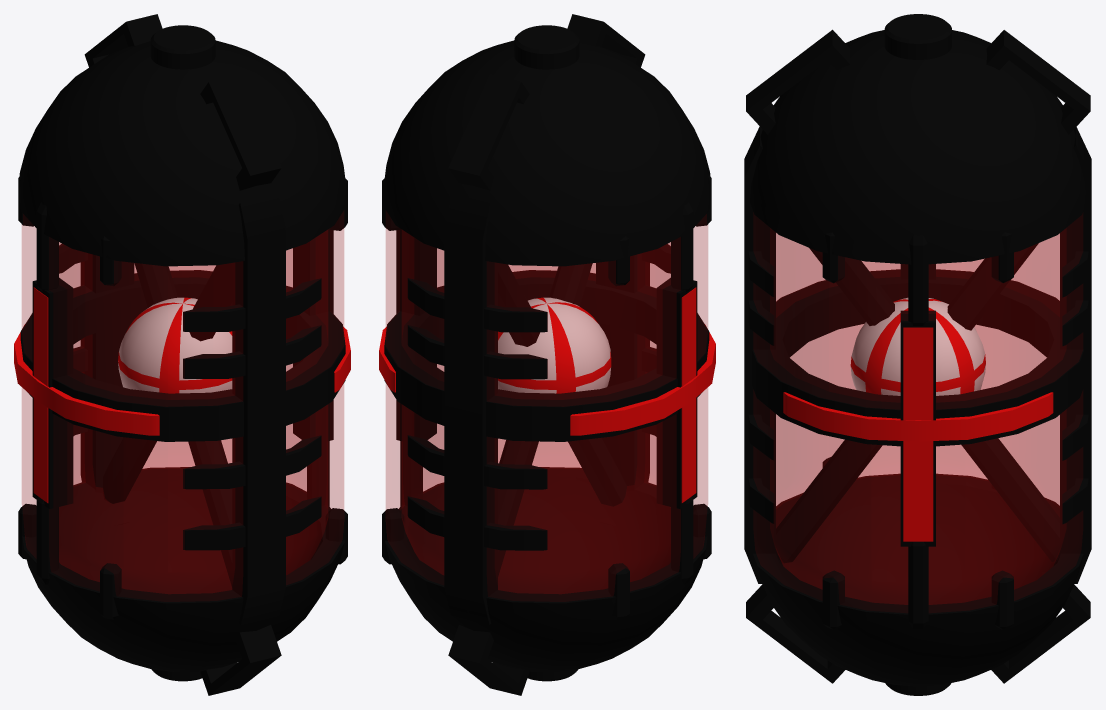
Rendered from Red.fbx.
3 views of the same model, side by side, from view 1: azimuth 30°, elevation 25°; view 2: azimuth 150°, elevation 25°; view 3: azimuth 270°, elevation 25° (orthographic). The views are drawn at different scales.
Visible parts, largest first — view 1: pasted__group10; view 2: pasted__group10; view 3: pasted__group10.
Part boxes in pixels (x1,y1,x2,y2): pasted__group10: (14,14,350,695); pasted__group10: (379,14,715,695); pasted__group10: (744,14,1091,695).
Size of the model in its own units: 2.05 by 4.28 by 2.06.
